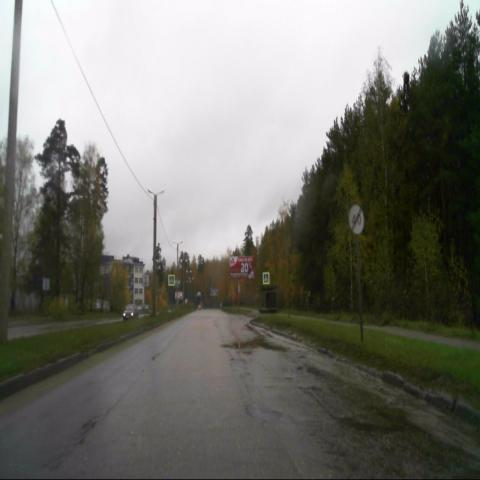3_25: (349, 205, 364, 233)
